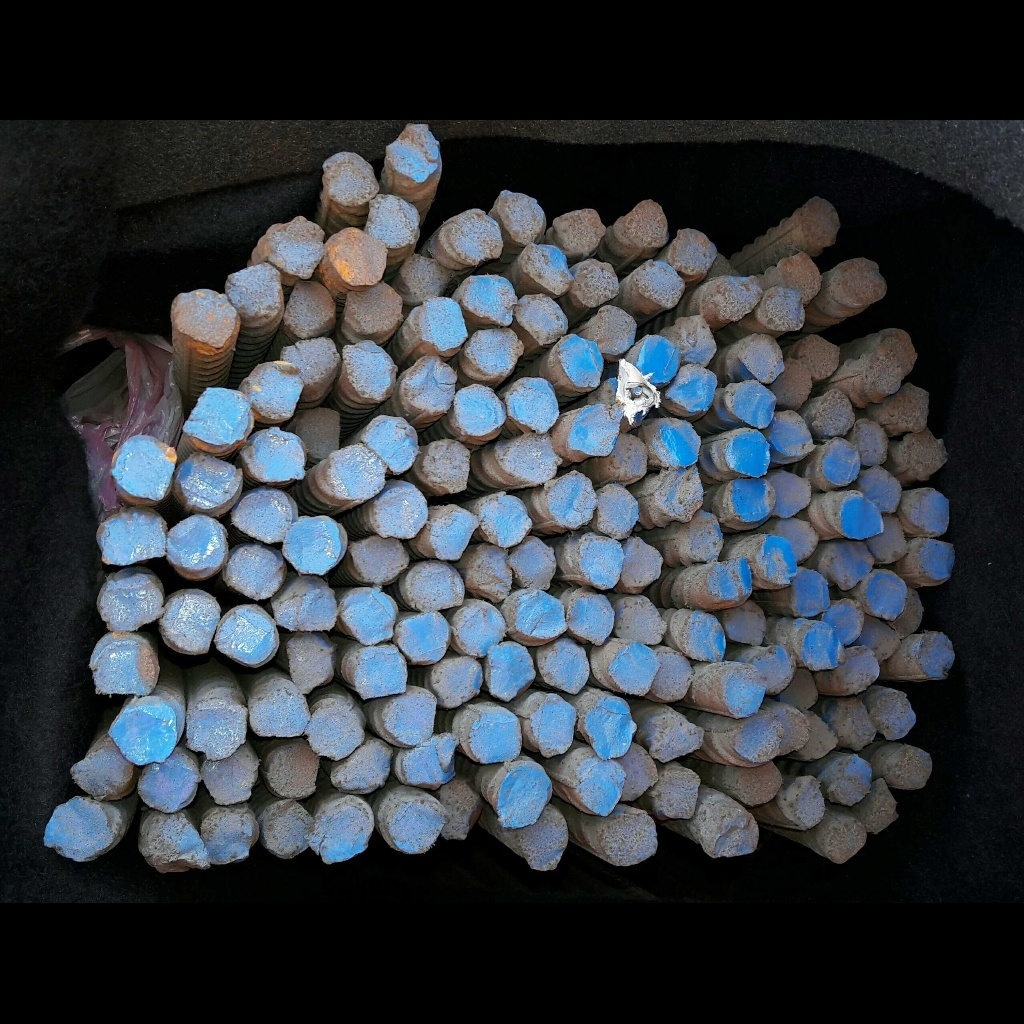dipstick: (88, 633, 159, 695), (44, 797, 113, 860), (111, 703, 178, 765), (113, 436, 176, 500), (215, 605, 279, 668), (171, 288, 237, 347), (183, 387, 249, 446), (161, 589, 220, 654), (143, 815, 211, 871), (99, 574, 163, 632), (166, 515, 224, 578), (284, 516, 347, 574), (267, 216, 325, 278), (177, 453, 241, 508), (232, 490, 298, 543), (138, 754, 199, 811), (273, 576, 337, 630), (312, 805, 371, 863), (186, 703, 246, 760), (497, 765, 552, 827), (100, 513, 165, 565), (329, 228, 387, 286), (201, 807, 258, 865), (262, 798, 316, 859), (306, 704, 365, 759), (70, 751, 136, 800), (362, 415, 418, 472), (386, 124, 440, 183), (329, 443, 386, 498), (225, 546, 285, 598), (601, 811, 657, 866), (249, 360, 303, 417), (344, 341, 396, 400), (244, 429, 304, 480), (330, 741, 391, 791), (342, 589, 395, 646), (375, 481, 428, 538), (530, 693, 577, 757), (203, 749, 258, 803), (389, 800, 445, 853), (521, 806, 568, 869), (266, 742, 319, 797), (323, 152, 379, 204), (384, 689, 435, 745), (538, 638, 589, 694), (508, 376, 559, 432), (406, 561, 463, 611), (585, 699, 633, 758), (454, 383, 506, 437), (520, 244, 574, 296), (731, 709, 783, 763), (226, 263, 281, 314), (405, 357, 456, 412), (487, 642, 535, 700), (251, 689, 310, 736), (353, 647, 407, 698), (347, 281, 401, 332), (547, 472, 596, 528), (286, 635, 334, 692), (701, 809, 758, 857), (568, 405, 621, 456), (456, 603, 506, 657), (369, 194, 419, 248), (577, 759, 625, 815), (450, 209, 502, 260), (479, 496, 532, 546), (821, 539, 874, 589), (285, 282, 334, 336), (649, 714, 704, 762), (351, 535, 408, 581), (462, 275, 514, 325), (516, 294, 568, 344), (610, 644, 660, 696), (469, 713, 522, 762), (282, 338, 337, 385), (433, 656, 483, 707), (666, 316, 716, 367), (509, 536, 556, 590), (397, 612, 448, 661), (658, 468, 705, 521), (424, 439, 470, 493), (499, 190, 545, 244), (433, 503, 476, 560), (468, 328, 518, 377), (514, 591, 567, 637), (421, 296, 467, 349), (506, 434, 556, 482), (634, 260, 685, 307), (569, 592, 614, 645), (581, 534, 624, 589), (838, 258, 887, 306), (554, 209, 606, 254), (753, 534, 798, 586), (655, 767, 699, 820), (597, 484, 640, 538), (726, 380, 774, 428), (900, 431, 947, 480), (826, 755, 872, 805), (666, 363, 717, 408), (723, 664, 766, 717), (796, 622, 844, 669), (635, 334, 679, 385), (403, 743, 455, 786), (561, 335, 603, 388), (784, 776, 826, 829), (739, 335, 785, 383), (819, 818, 867, 864), (620, 538, 661, 591), (573, 259, 619, 306), (871, 691, 916, 739), (714, 277, 764, 320), (725, 478, 775, 521), (863, 570, 906, 620), (752, 645, 794, 696), (655, 419, 700, 466), (725, 429, 770, 476), (733, 761, 781, 805), (683, 511, 724, 562), (618, 598, 663, 644), (886, 744, 932, 789), (778, 252, 821, 300), (673, 229, 717, 275), (760, 286, 804, 332), (652, 647, 690, 700), (686, 611, 726, 661), (770, 411, 813, 457), (797, 334, 840, 379), (907, 488, 949, 534), (803, 196, 840, 248), (625, 201, 668, 245), (814, 389, 855, 435), (868, 516, 909, 562), (841, 494, 884, 537), (774, 519, 818, 561), (823, 599, 863, 645), (821, 438, 860, 485), (773, 469, 811, 517), (791, 569, 829, 617), (725, 601, 766, 645), (598, 307, 637, 353), (862, 467, 901, 513), (850, 419, 888, 466), (839, 646, 878, 691), (610, 432, 648, 478), (878, 331, 916, 377), (711, 557, 752, 599), (918, 631, 954, 678), (863, 352, 902, 394), (897, 385, 928, 431), (920, 539, 955, 579)
